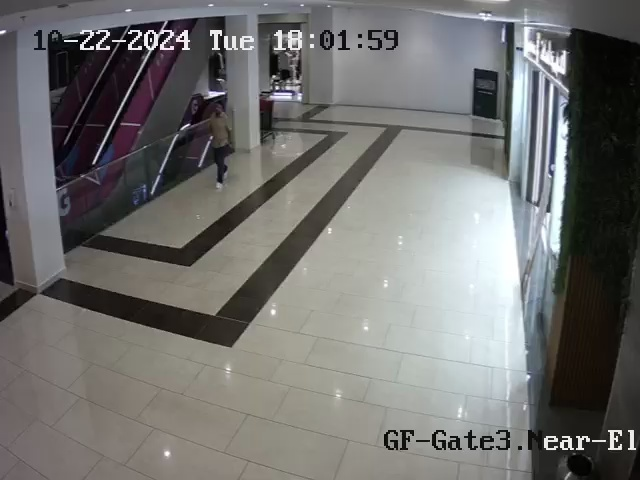male: (208, 103, 233, 191)
